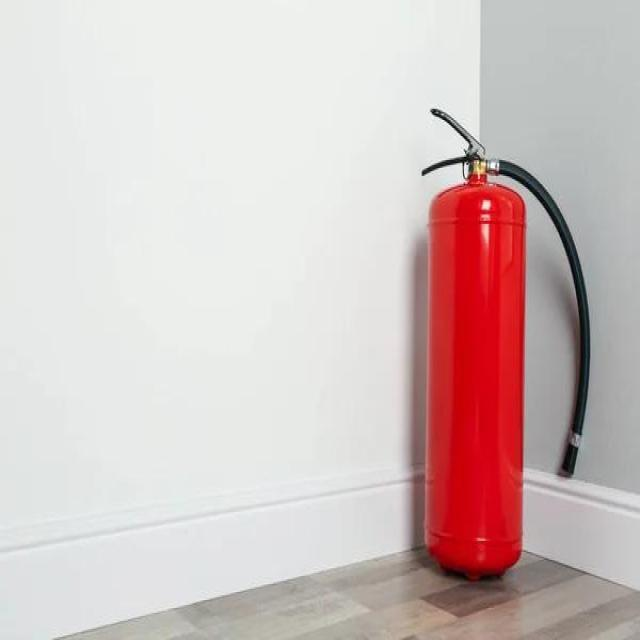fire_extinguisher: (416, 102, 593, 583)
